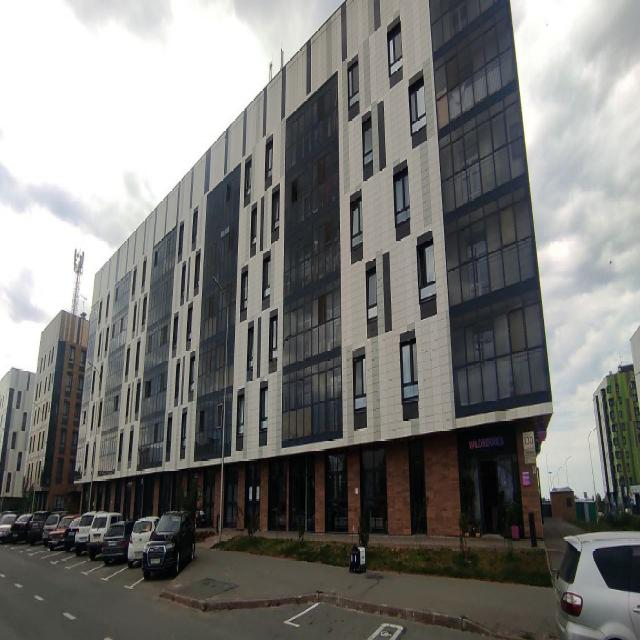Building: (74, 0, 552, 540)
